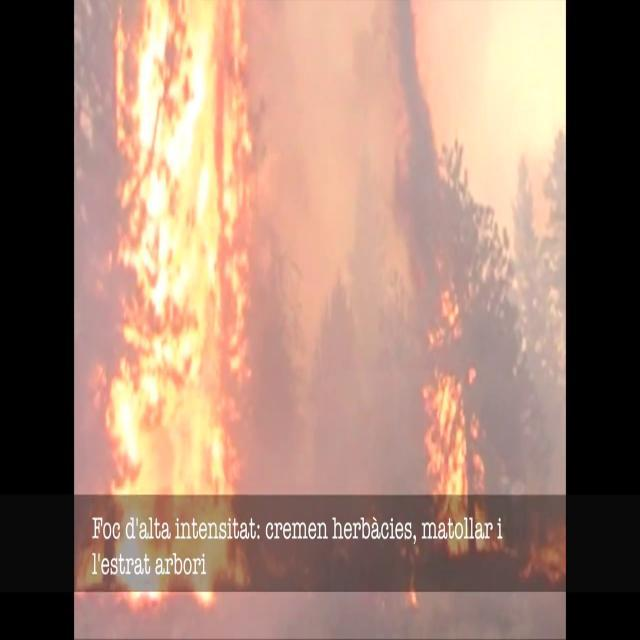Fire: (87, 1, 266, 498), (416, 350, 486, 500)
Smoke: (250, 0, 562, 487)
